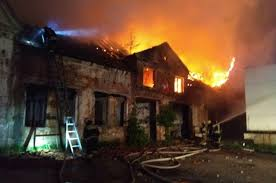fire: (108, 27, 235, 105)
